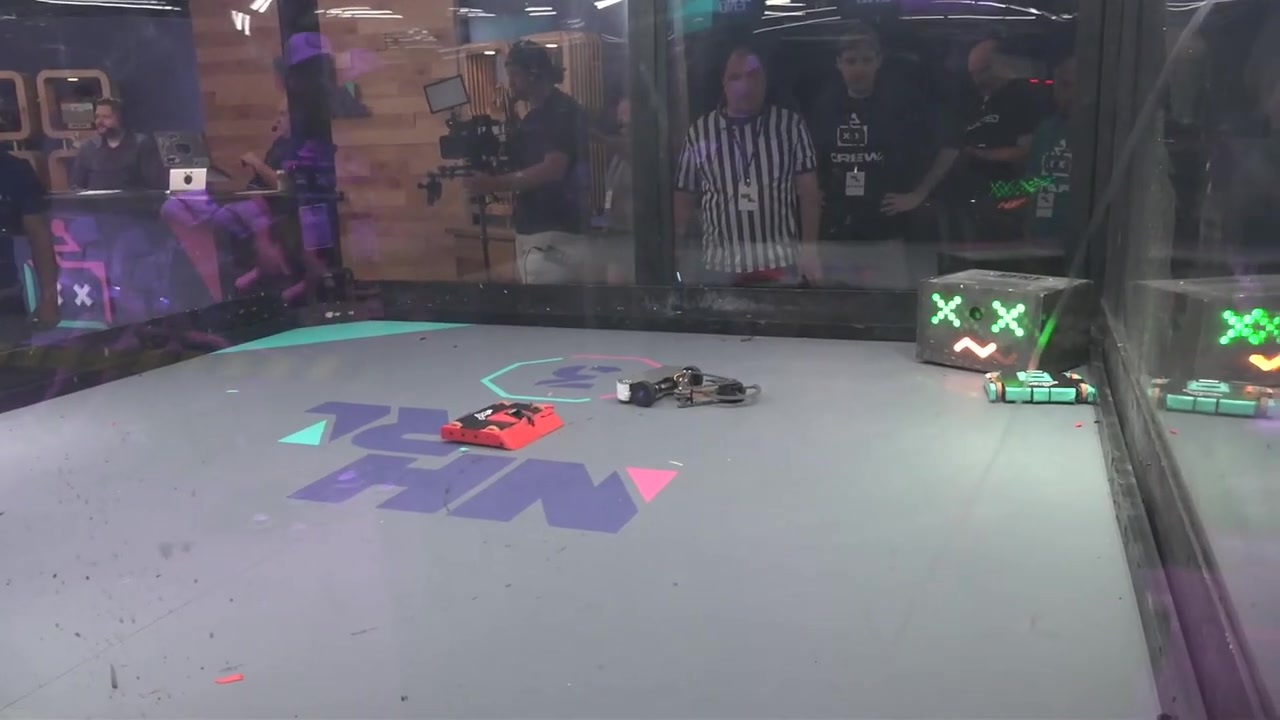combatbot: (440, 397, 563, 453), (615, 370, 764, 409), (982, 368, 1099, 408)
housebot: (916, 270, 1093, 375)
